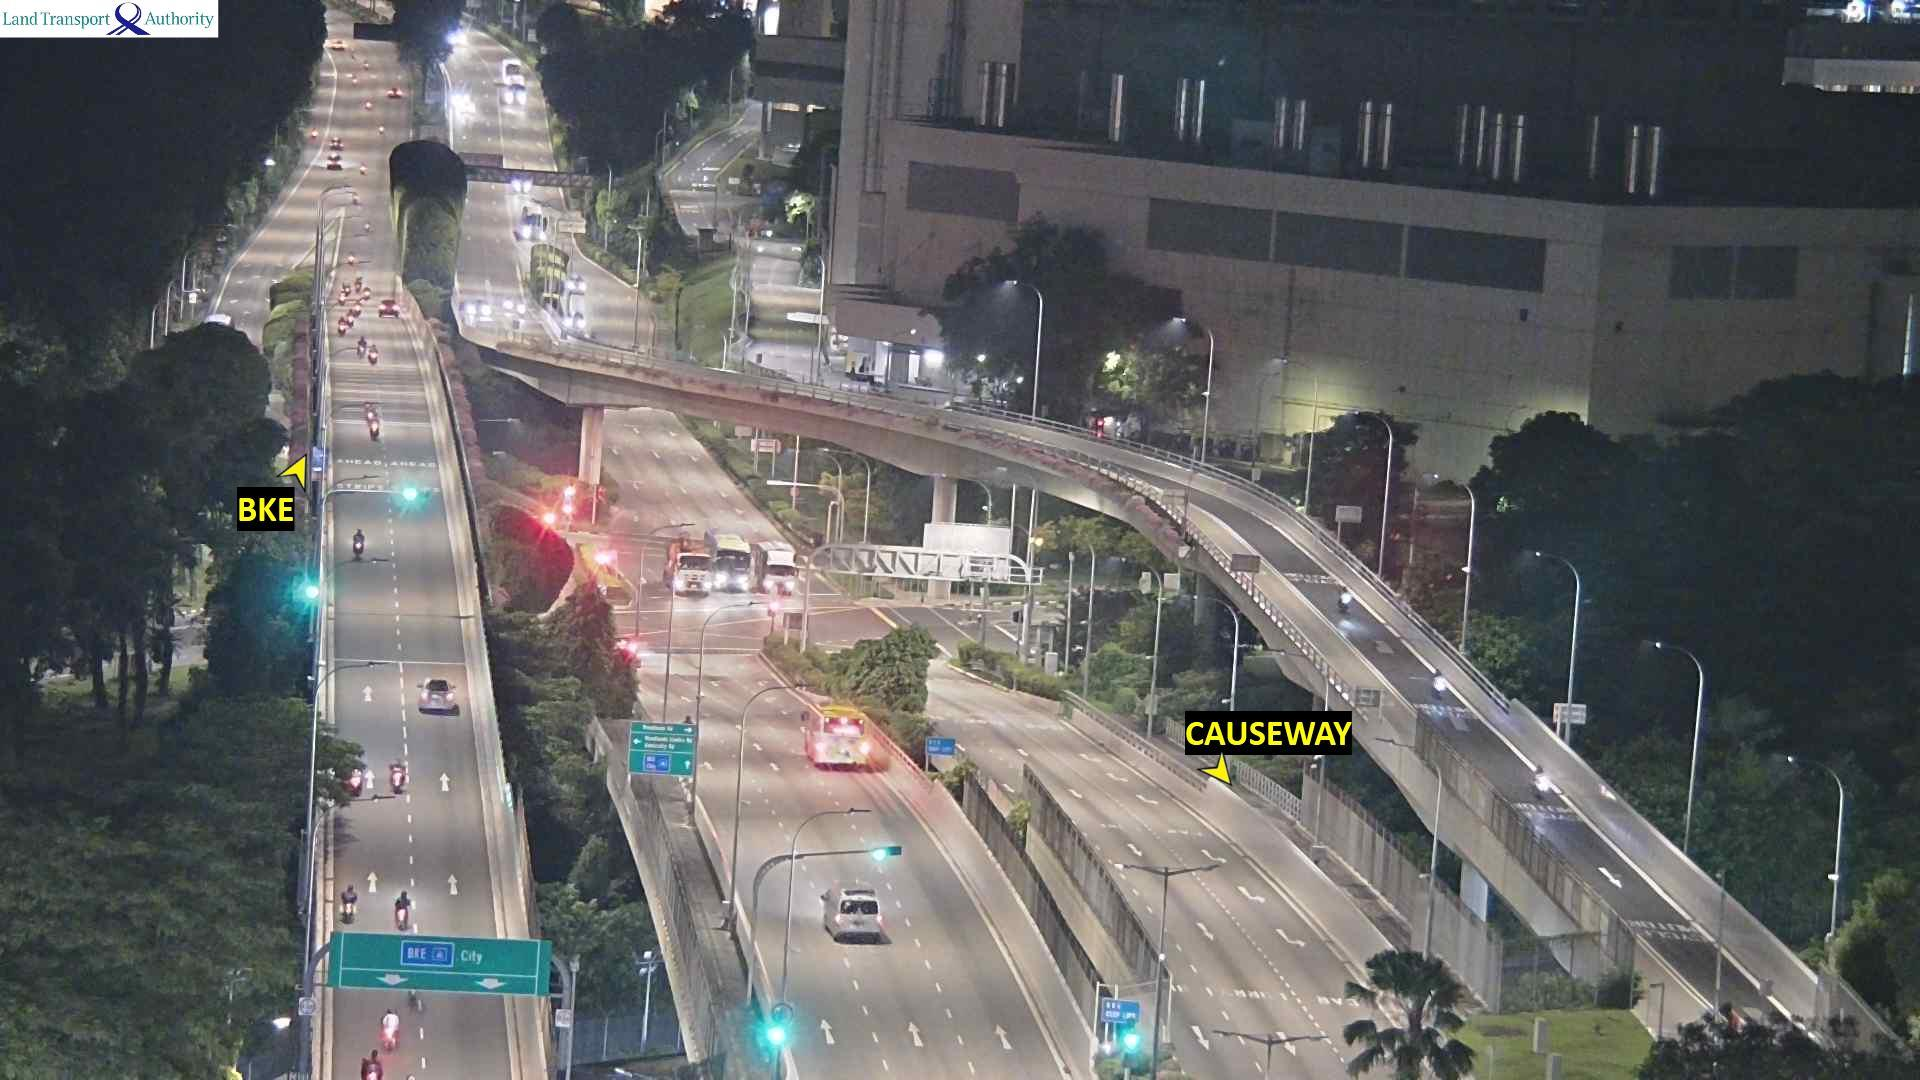vehicle-causeway-johor: (521, 214, 543, 236), (465, 298, 490, 317), (1532, 763, 1546, 790), (1430, 667, 1441, 696), (1337, 585, 1348, 611), (505, 299, 524, 313)
vehicle-causeway-singapore: (803, 697, 876, 771), (821, 887, 885, 945), (424, 679, 449, 712), (420, 694, 452, 717), (383, 1012, 401, 1044), (398, 898, 415, 923), (360, 1054, 376, 1080), (352, 532, 369, 553), (340, 889, 352, 916), (381, 301, 400, 316), (394, 762, 404, 789), (396, 775, 405, 798), (371, 418, 379, 440), (339, 315, 348, 333), (360, 279, 372, 292), (366, 405, 374, 423), (357, 336, 364, 356), (344, 256, 353, 267), (370, 348, 376, 364)
